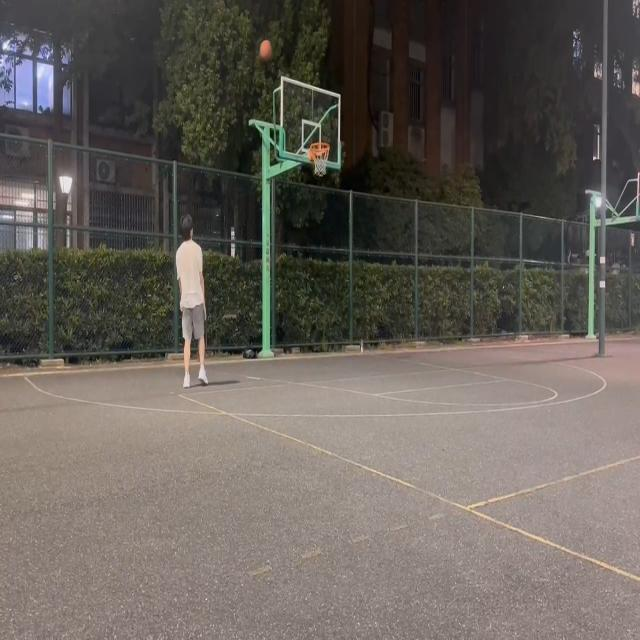basketball: (309, 142, 330, 178)
rim: (260, 40, 272, 60)
